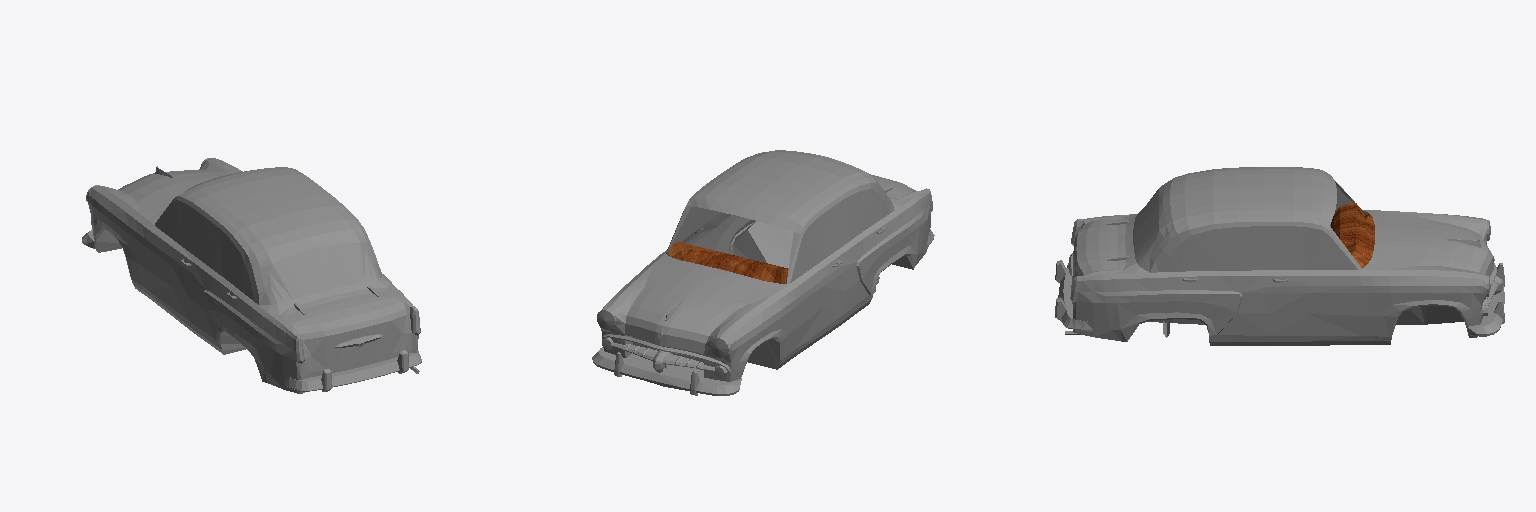
3 views of the same model, side by side, from view 1: azimuth 30°, elevation 25°; view 2: azimuth 150°, elevation 25°; view 3: azimuth 270°, elevation 25° (orthographic).
Parts seen in each view (by area): view 1: moskvitch; view 2: moskvitch, Cylinder001; view 3: moskvitch, Cylinder001.
Part boxes in pixels (x1,y1,x2,y2): moskvitch: (82, 158, 421, 393); moskvitch: (592, 150, 934, 395); Cylinder001: (668, 242, 788, 283); moskvitch: (1055, 167, 1504, 345); Cylinder001: (1331, 203, 1374, 267).
Bounding box in the file's own units: 13.38 × 12.04 × 35.63.
2 materials, 1 textured.